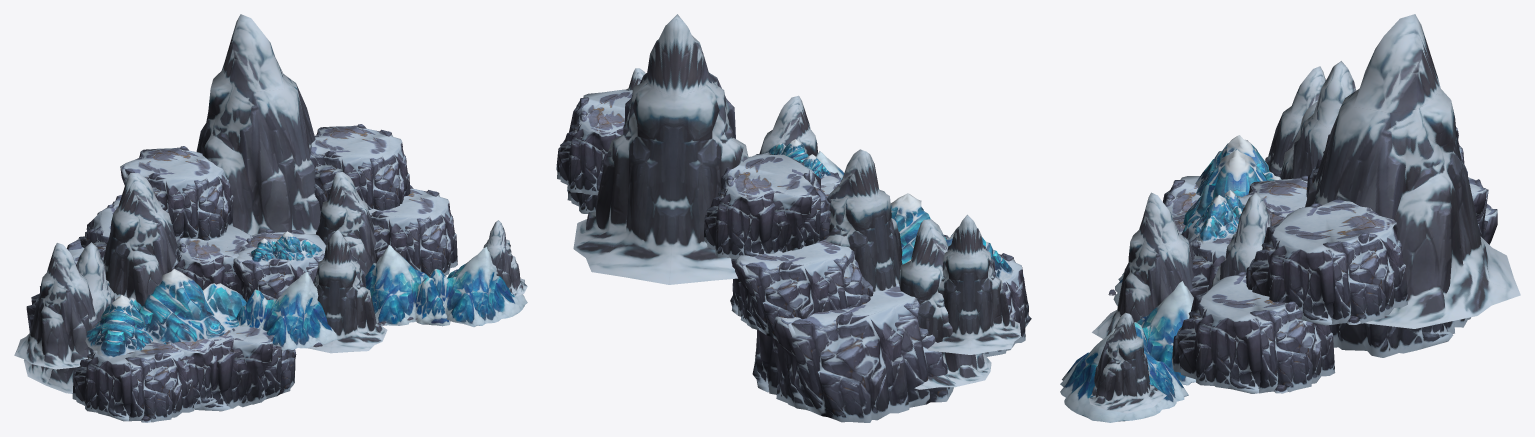
File: yanshi3_1.fbx
3 views of the same model, side by side, from view 1: azimuth 30°, elevation 25°; view 2: azimuth 150°, elevation 25°; view 3: azimuth 270°, elevation 25° (orthographic). The views are drawn at different scales.
Visible parts, largest first — view 1: yanshi3_1; view 2: yanshi3_1; view 3: yanshi3_1.
Part boxes in pixels (bbox=[...]): yanshi3_1: bbox=[14, 14, 527, 422]; yanshi3_1: bbox=[556, 14, 1031, 422]; yanshi3_1: bbox=[1060, 14, 1520, 422].
Bounding box in the file's own units: 8919 × 5808 × 6370.
